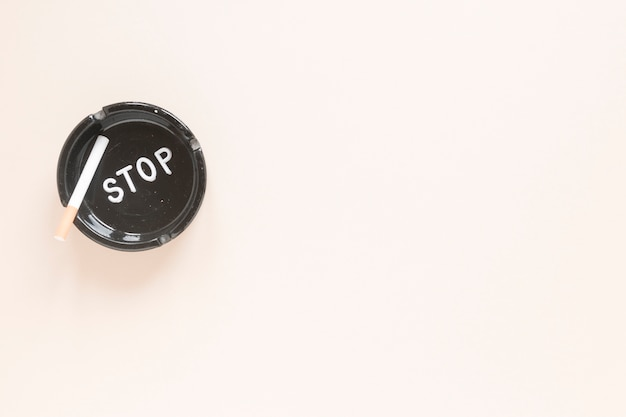cigarette: (53, 132, 113, 243)
